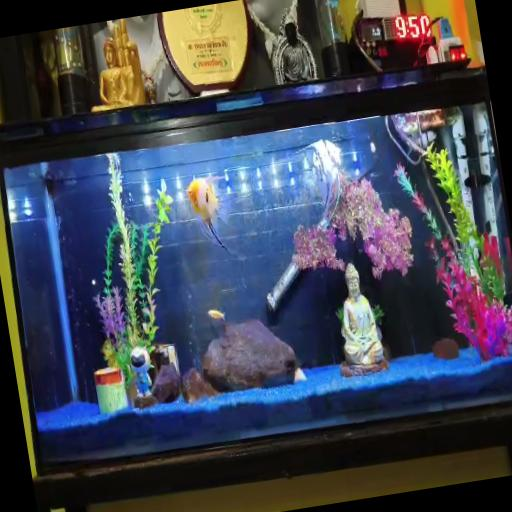Fish: (186, 177, 229, 252), (209, 309, 225, 320), (295, 367, 306, 382)
